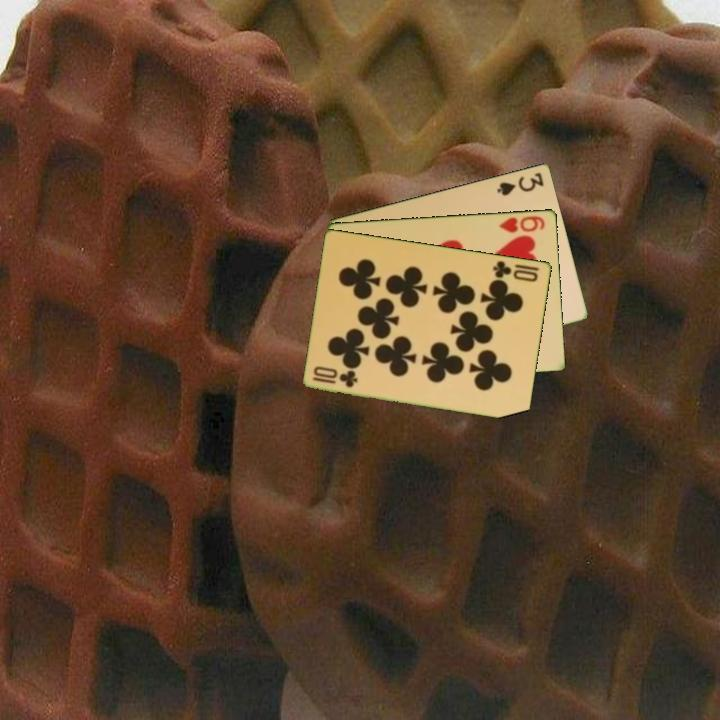10c: (490, 257, 541, 285), (309, 368, 361, 390)
3s: (494, 169, 547, 198)
6h: (496, 212, 548, 235)
